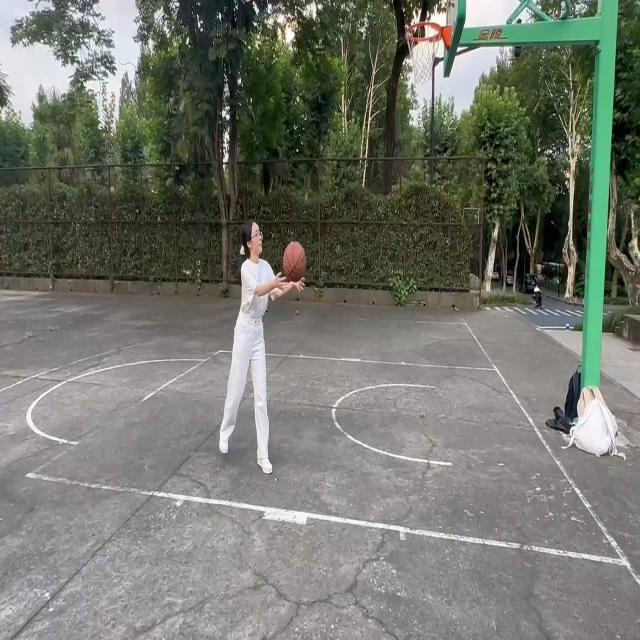basketball: (407, 21, 442, 86)
rim: (283, 242, 305, 282)
